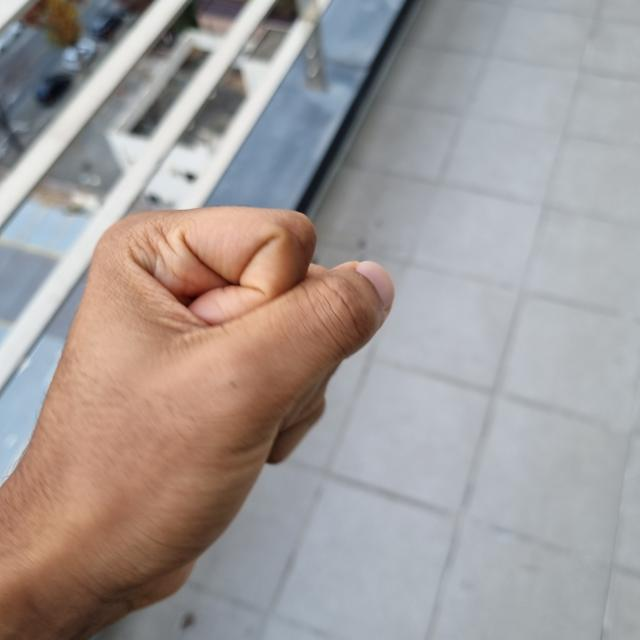Rock: (1, 200, 396, 612)
